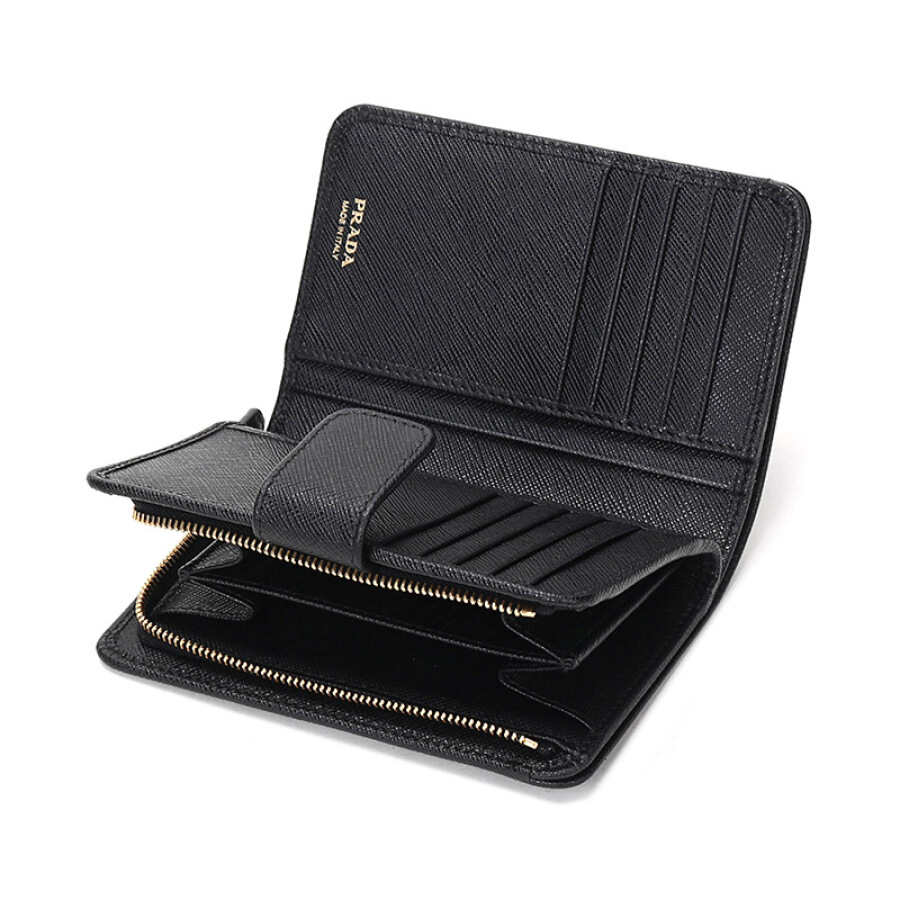Prada: (337, 191, 370, 274)
